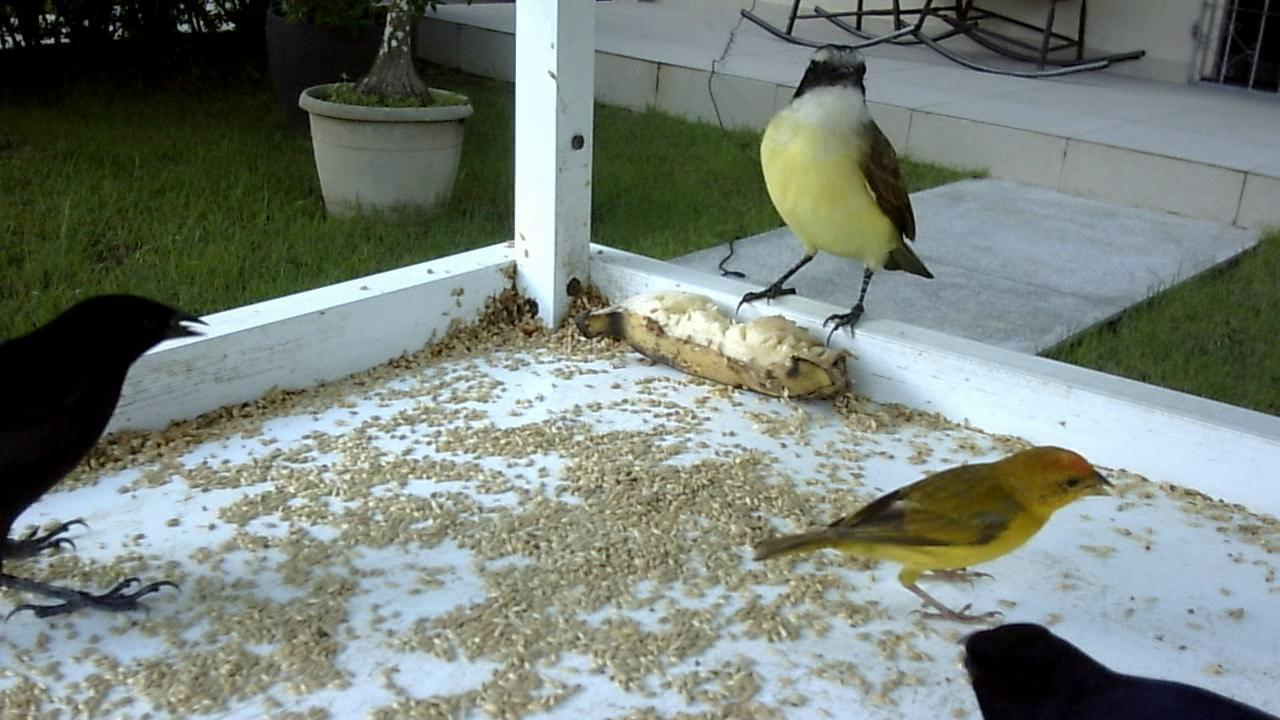bem_te_vi: (710, 36, 947, 359)
canario_do_amazonas: (740, 437, 1116, 628)
chupim: (1, 285, 219, 644), (945, 607, 1280, 717)
